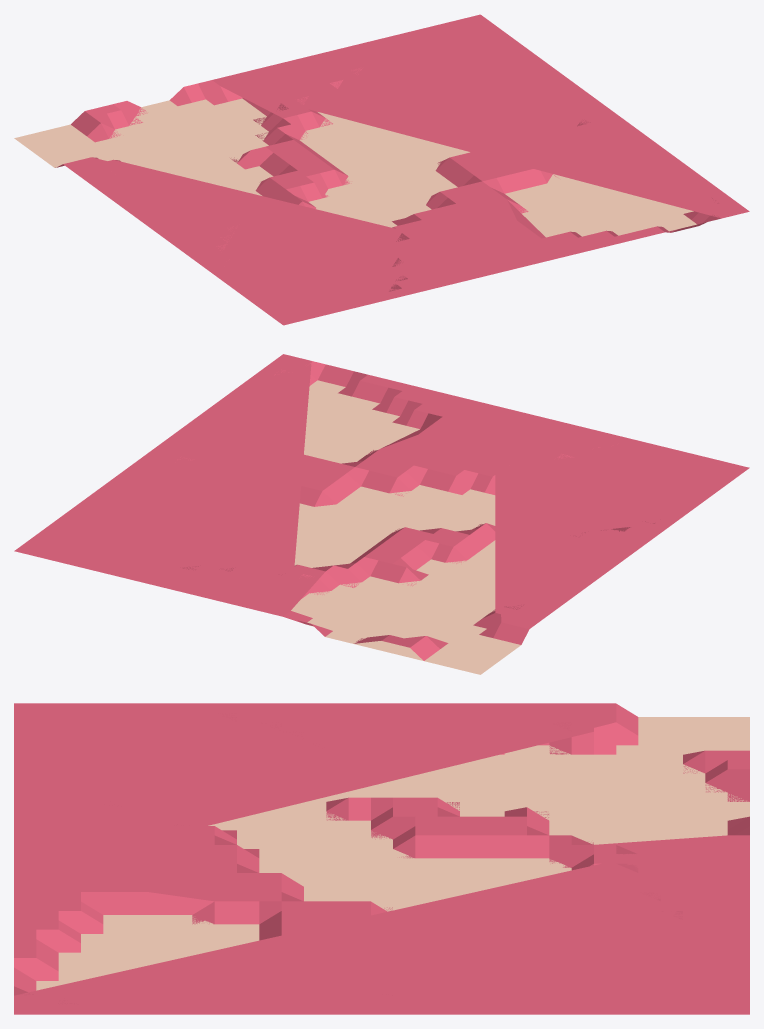
The model's file is ground.fbx.
3 views of the same model, one above another, from view 1: azimuth 30°, elevation 25°; view 2: azimuth 150°, elevation 25°; view 3: azimuth 270°, elevation 25° (orthographic). The views are drawn at different scales.
Parts seen in each view (by area): view 1: Plane; view 2: Plane; view 3: Plane.
Part boxes in pixels (bbox=[...]): Plane: bbox=[14, 14, 749, 325]; Plane: bbox=[14, 354, 749, 674]; Plane: bbox=[14, 703, 749, 1014].
Size of the model in its own units: 2400 by 48.92 by 2400.
